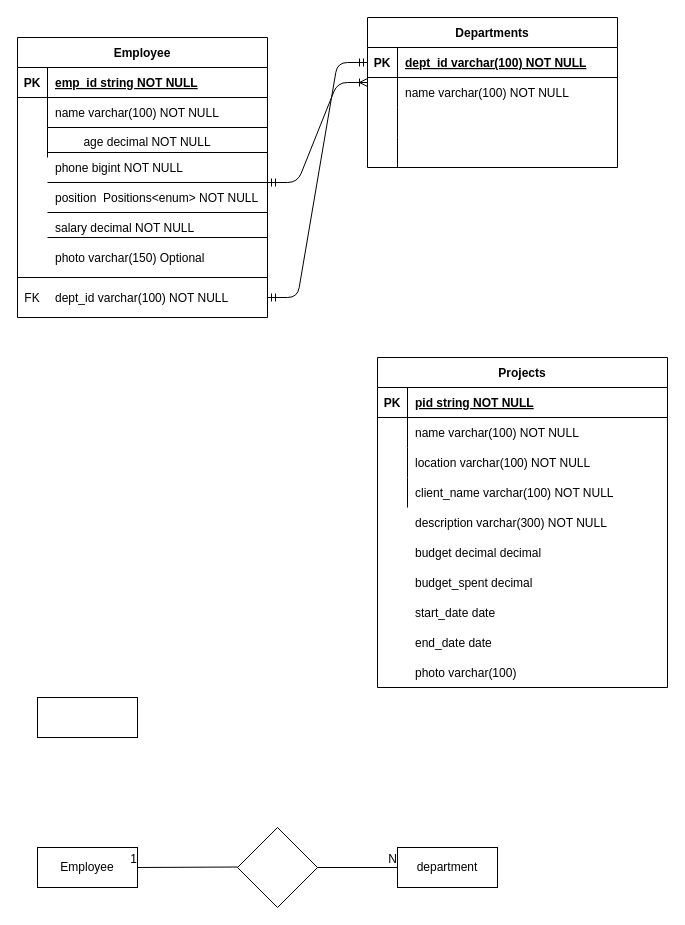
This 685x925 diagram has some shape labels left out. The centre of each missing label's shape, as x and y in pixels:
"belongs to" belongs at [277,867].
"Project" belongs at [87,717].
